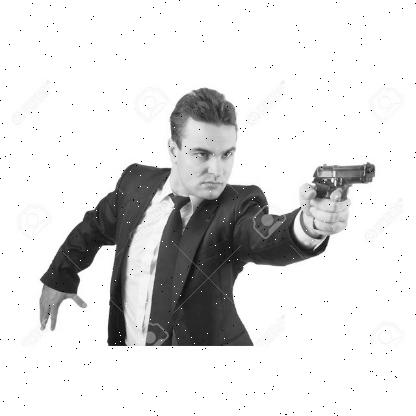gun: (307, 162, 375, 234)
